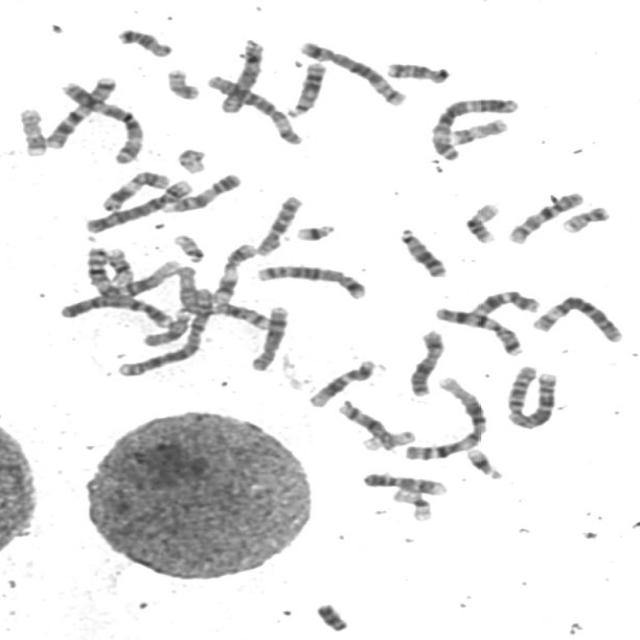A1: (398, 372, 492, 462), (80, 243, 182, 300)
A2: (112, 281, 217, 379), (502, 361, 562, 430)
A3: (56, 75, 148, 165), (426, 92, 522, 161)
B4: (80, 175, 196, 235), (55, 289, 177, 328)
B5: (295, 37, 411, 107), (252, 260, 370, 300)
C10: (504, 187, 588, 245), (252, 190, 306, 258)
C11: (100, 166, 174, 212), (209, 239, 259, 305)
C12: (304, 354, 380, 408), (467, 286, 544, 318)
C6: (204, 70, 306, 146), (529, 291, 628, 344)
C7: (42, 72, 120, 150), (430, 302, 527, 357)
C8: (215, 35, 268, 114), (247, 302, 292, 372)
C9: (160, 169, 244, 214), (358, 468, 449, 497)
D13: (395, 223, 451, 279), (282, 57, 330, 118)
D14: (334, 398, 402, 452), (203, 297, 272, 331)
D15: (139, 307, 195, 348), (171, 262, 202, 315)
E16: (460, 199, 504, 245), (103, 244, 139, 287)
E17: (446, 115, 512, 146), (15, 104, 50, 158)
E18: (114, 23, 176, 58), (383, 57, 453, 85)
F19: (389, 484, 436, 523), (357, 426, 418, 452)
F20: (558, 201, 614, 235), (162, 64, 203, 101)
G21: (462, 444, 506, 481), (291, 219, 339, 243)
G22: (169, 230, 207, 264), (173, 144, 210, 175)
X: (404, 326, 448, 396)
Y: (310, 598, 352, 633)
